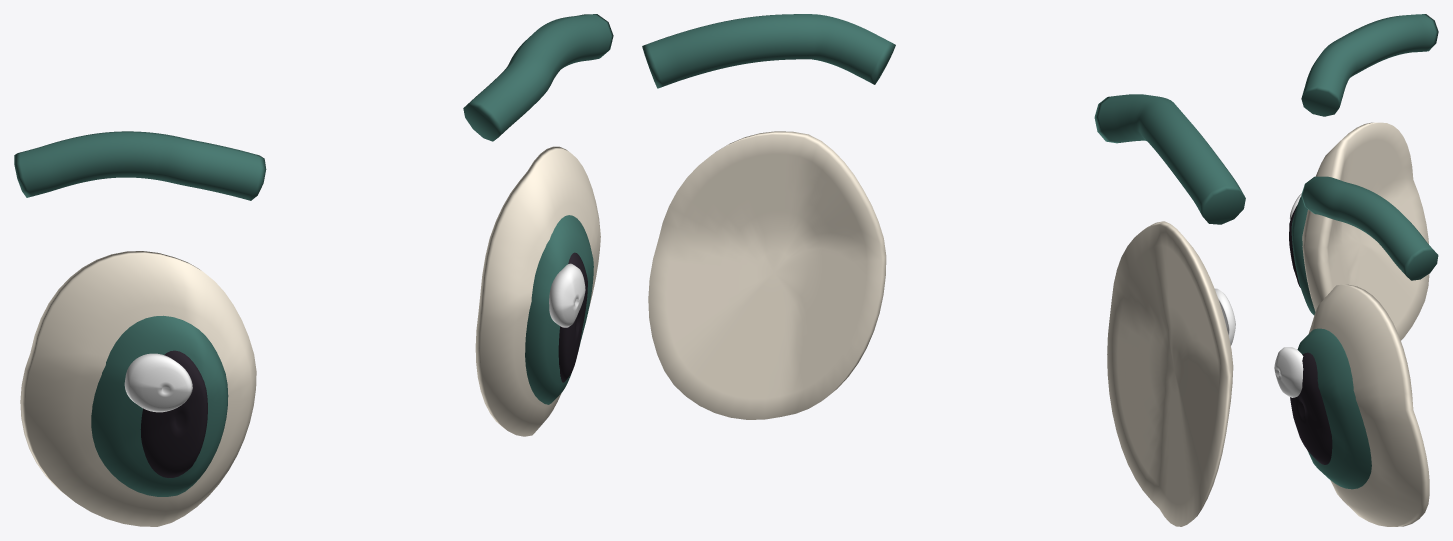
The model's file is 4HT-feminino.glb.
3 views of the same model, side by side, from view 1: azimuth 30°, elevation 25°; view 2: azimuth 150°, elevation 25°; view 3: azimuth 270°, elevation 25° (orthographic). The views are drawn at different scales.
Parts seen in each view (by area): view 1: sclera--1, sclera-1, iris--1, brow--1, brow-1, iris-1, pupil--1, highlight--1, highlight-1, pupil-1; view 2: sclera-1, sclera--1, brow-1, brow--1; view 3: sclera-1, sclera--1, brow--1, iris-1, brow-1, pupil-1, highlight-1, iris--1, pupil--1.
Part boxes in pixels (x1,y1,x2,y2): sclera--1: [20, 251, 256, 526]; sclera-1: [475, 146, 600, 436]; iris--1: [91, 315, 228, 496]; brow--1: [14, 131, 266, 200]; brow-1: [463, 14, 613, 141]; iris-1: [525, 215, 593, 404]; pupil--1: [140, 350, 207, 477]; highlight--1: [124, 353, 192, 412]; highlight-1: [549, 263, 585, 327]; pupil-1: [558, 252, 587, 382]; sclera-1: [648, 131, 886, 419]; sclera--1: [1107, 221, 1233, 526]; brow-1: [642, 14, 895, 88]; brow--1: [1094, 94, 1245, 224]; sclera-1: [1308, 284, 1429, 526]; sclera--1: [1302, 122, 1429, 340]; brow--1: [1301, 14, 1438, 116]; iris-1: [1297, 328, 1371, 489]; brow-1: [1301, 176, 1438, 280]; pupil-1: [1290, 352, 1332, 464]; highlight-1: [1274, 347, 1303, 397]; iris--1: [1291, 196, 1315, 315]; pupil--1: [1289, 206, 1300, 287].
Size of the model in its own units: 0.0175 by 0.0111 by 0.00501.
